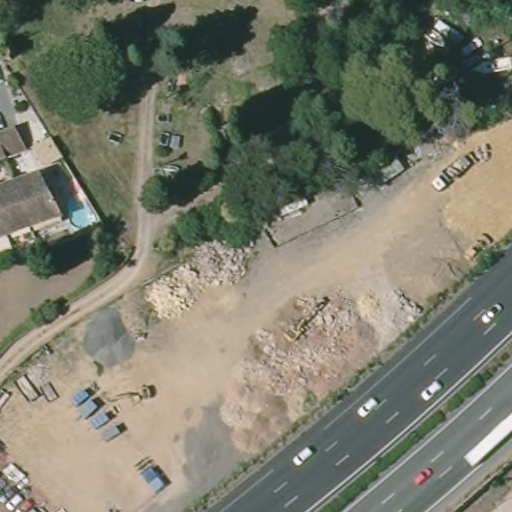pool: (66, 200, 95, 231)
